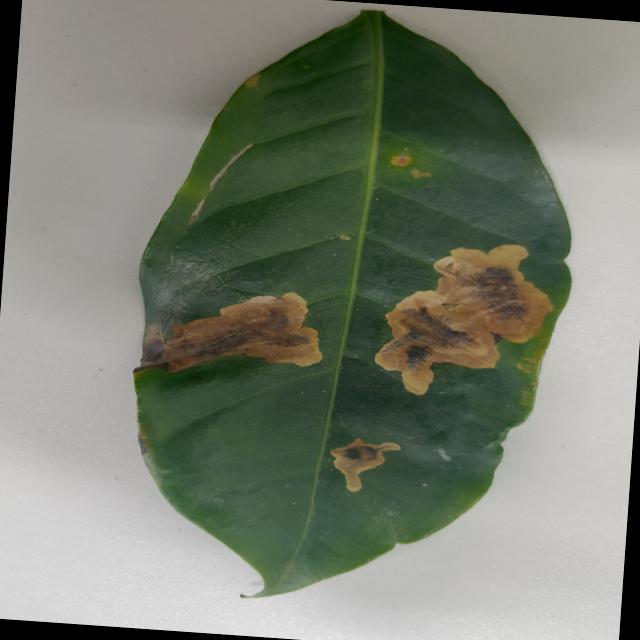PengorokDaunKopi: (375, 244, 552, 394), (134, 292, 322, 372), (189, 143, 252, 224), (331, 438, 400, 491), (243, 73, 260, 89), (389, 155, 411, 167), (410, 169, 431, 178), (516, 363, 530, 372), (339, 234, 350, 240)
